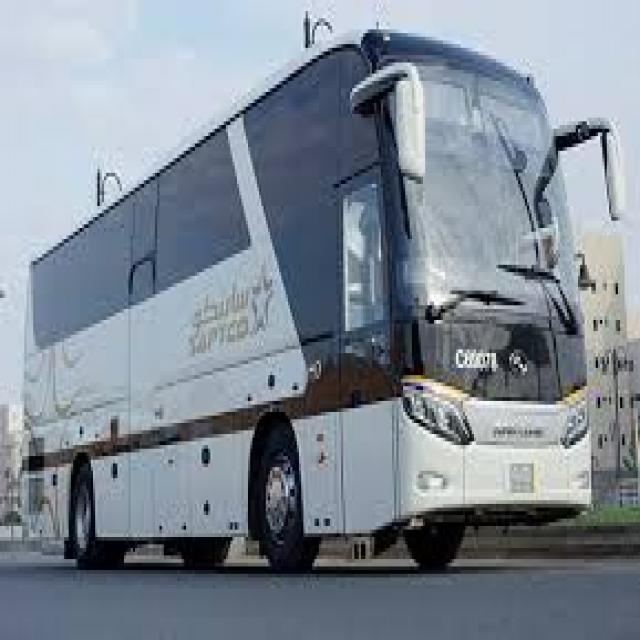bus: (56, 56, 574, 489)
